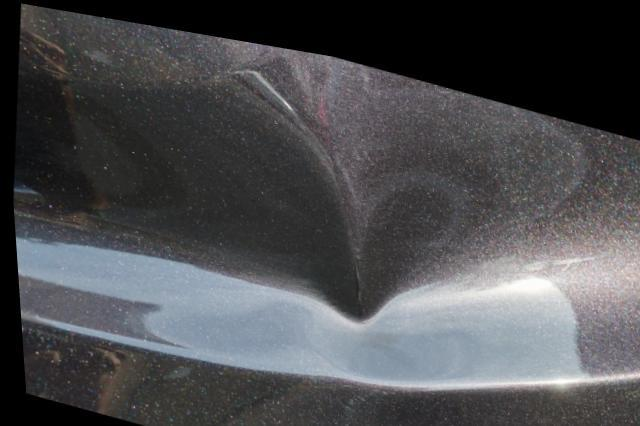dent: (62, 68, 521, 382)
